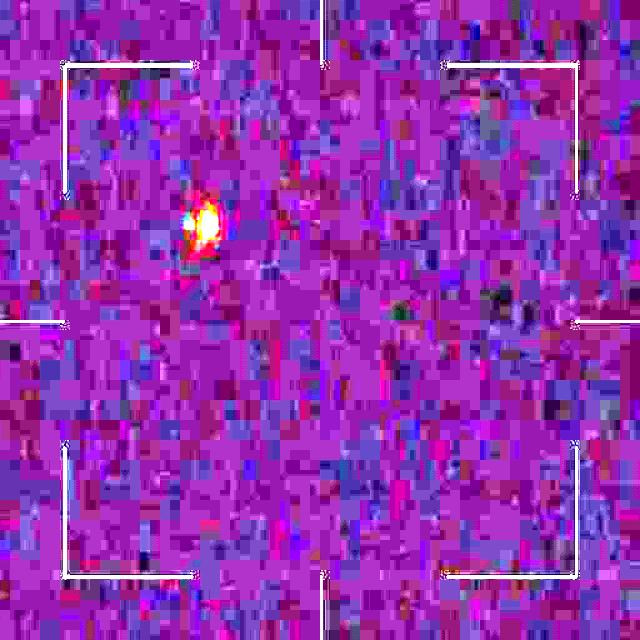bird: (184, 200, 219, 256)
